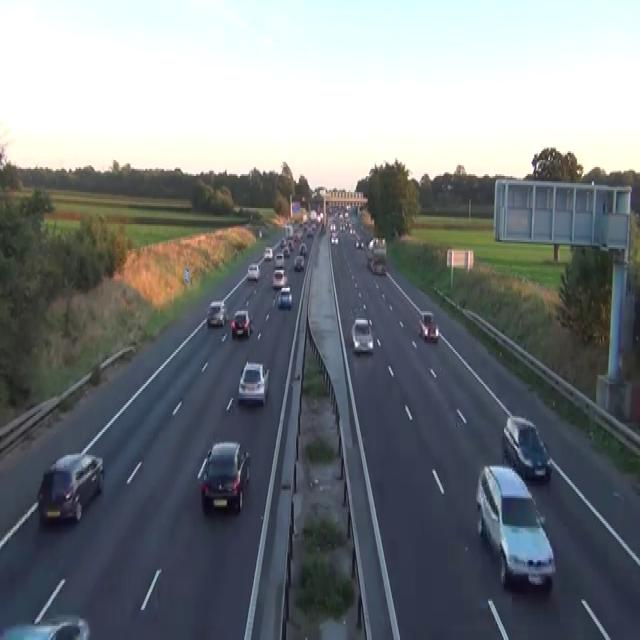Car: (475, 464, 555, 588), (0, 578, 90, 638), (37, 452, 104, 524), (197, 441, 250, 515), (501, 414, 552, 482), (0, 615, 89, 638), (237, 361, 270, 405), (351, 316, 373, 354), (230, 309, 253, 338), (418, 311, 439, 341), (206, 299, 227, 327), (277, 286, 292, 310), (370, 254, 386, 274), (272, 267, 287, 288), (372, 237, 386, 254), (247, 263, 260, 281), (293, 254, 304, 270), (43, 199, 56, 212), (263, 246, 273, 260), (274, 252, 284, 266), (298, 242, 306, 256), (355, 238, 363, 249), (283, 245, 290, 256), (329, 222, 336, 233), (294, 231, 301, 242), (287, 240, 294, 251), (330, 234, 338, 243), (310, 210, 316, 220), (280, 237, 286, 247), (306, 228, 313, 236), (302, 213, 307, 224), (318, 212, 323, 222), (258, 228, 262, 238)
Truck: (364, 236, 386, 274)
